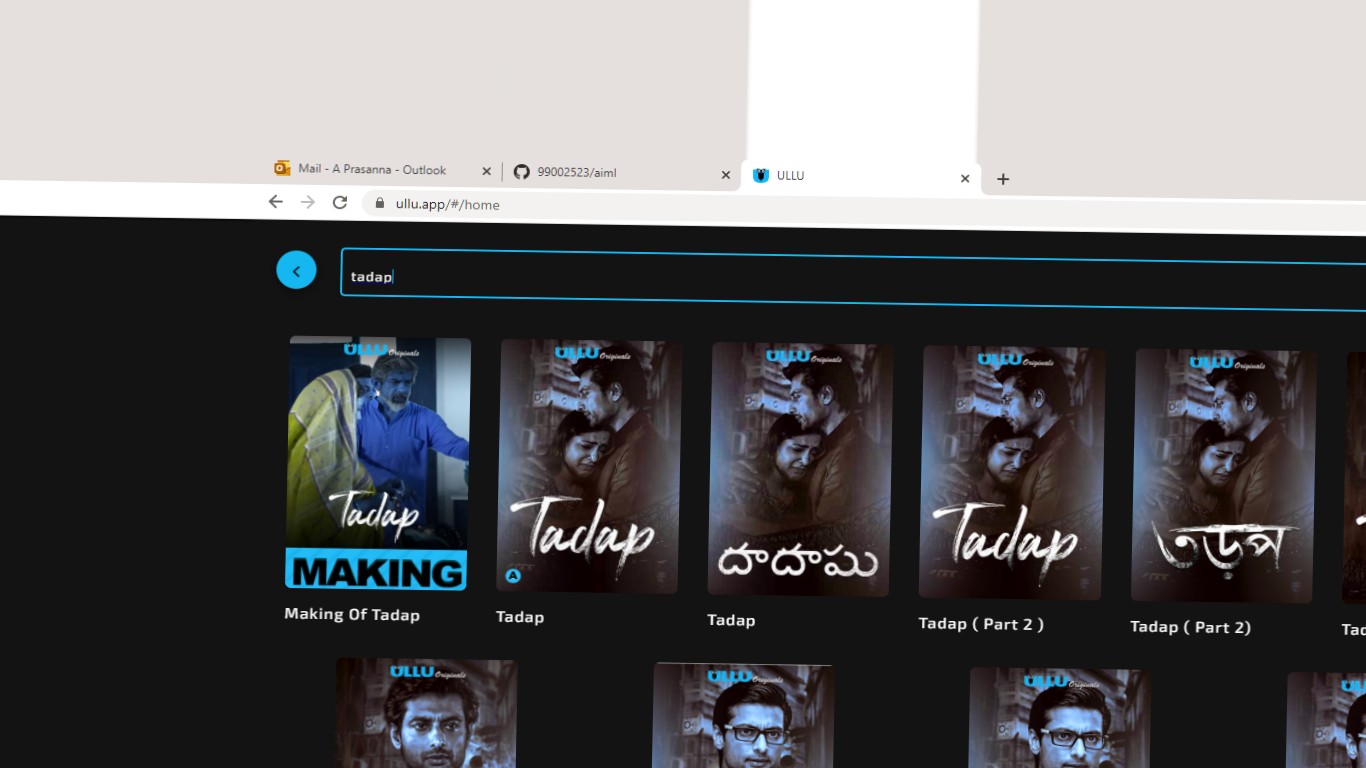backbutton: (267, 246, 315, 297)
searchtextbox: (335, 241, 1355, 334)
